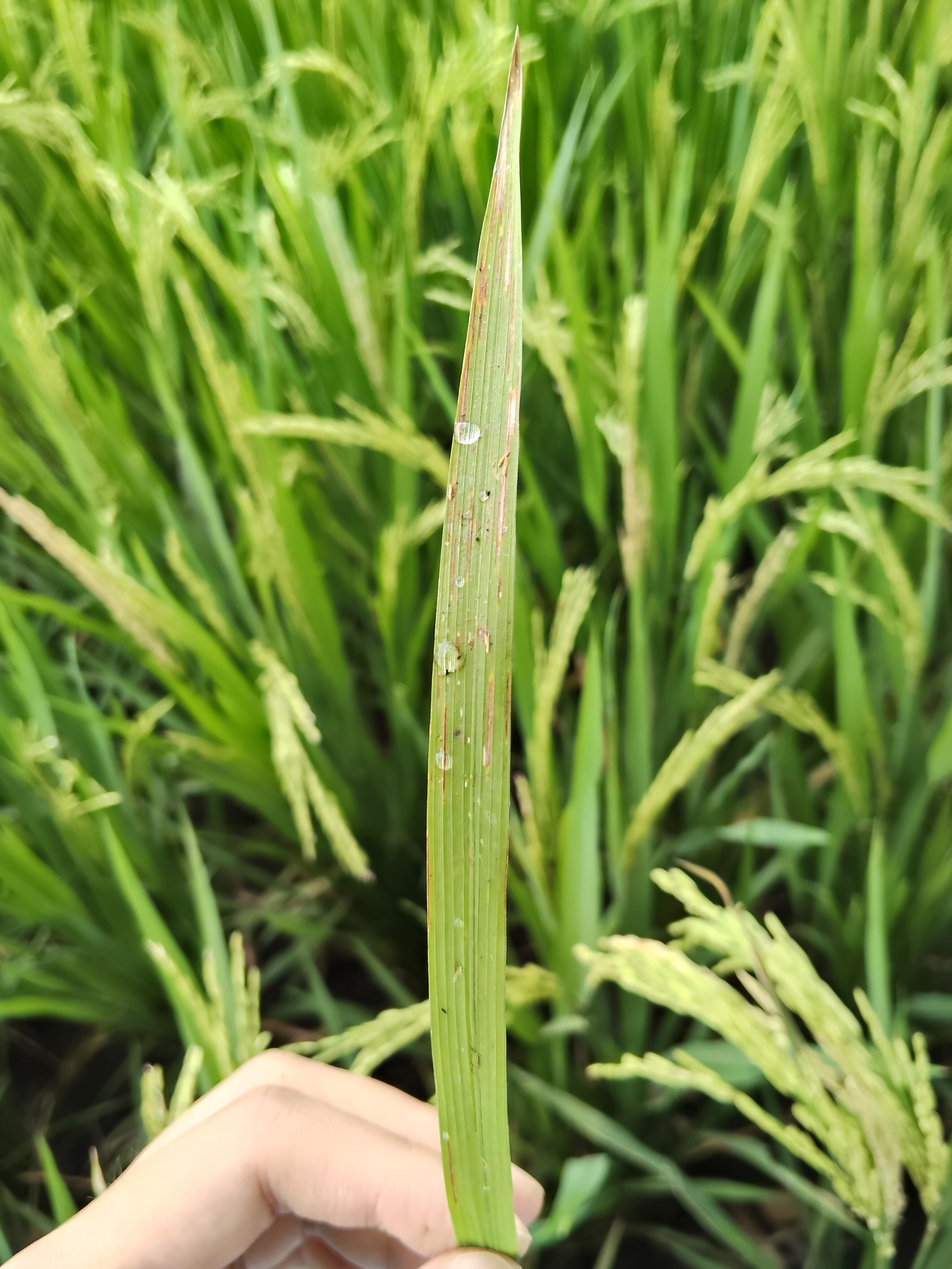NBS: (494, 477, 506, 563), (506, 280, 516, 376), (484, 676, 494, 768), (459, 349, 471, 422), (446, 1140, 458, 1204), (506, 387, 518, 451), (466, 493, 474, 572), (495, 233, 505, 284), (442, 706, 447, 793), (451, 534, 458, 596), (504, 671, 510, 739), (471, 297, 477, 346), (478, 304, 483, 340), (497, 578, 502, 601)
